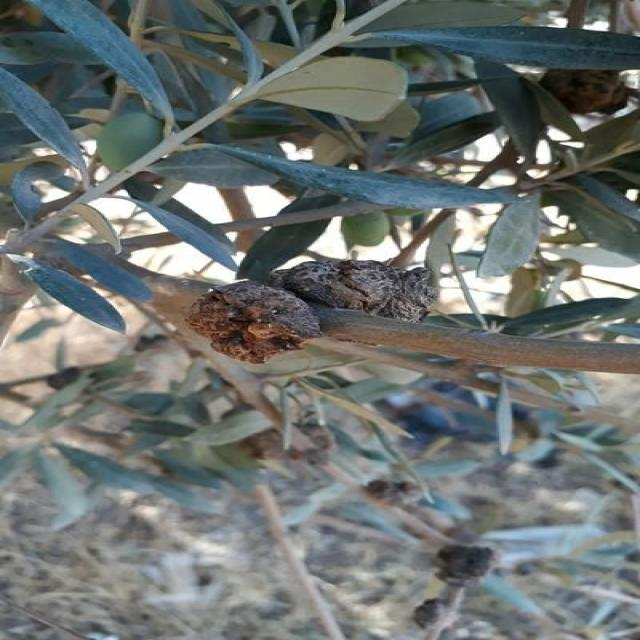Tuberculosis: (187, 280, 320, 363), (269, 259, 437, 320), (541, 69, 638, 114)
